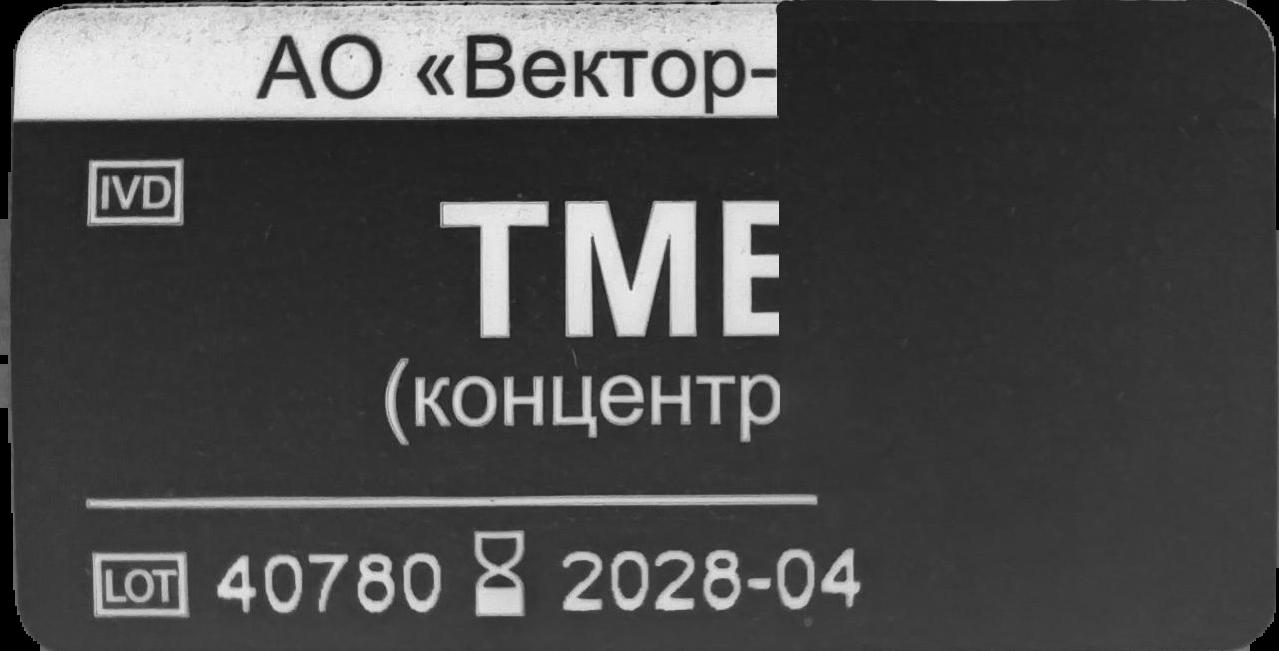something: (85, 159, 192, 233), (89, 548, 192, 620), (469, 528, 534, 619)
text: (379, 192, 787, 445), (249, 29, 780, 117), (555, 546, 863, 622), (213, 553, 442, 622)
